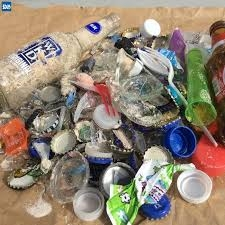glass: (1, 11, 122, 104)
metal: (47, 126, 80, 156)
plastic: (134, 41, 218, 147), (104, 158, 178, 225), (182, 45, 222, 130), (174, 166, 217, 205), (163, 121, 203, 159), (1, 116, 38, 155), (83, 134, 119, 164), (73, 186, 105, 217), (137, 17, 168, 39)
